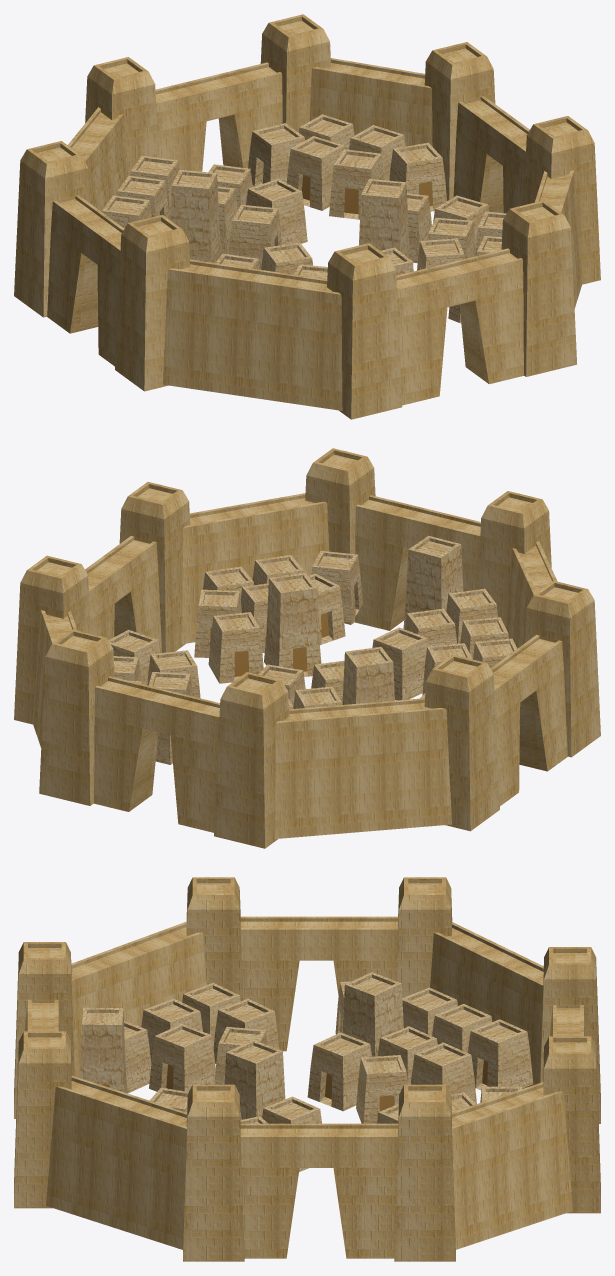
File: Egyptian City.obj
The picture shows the model from 3 angles, top to bottom: view 1: azimuth 30°, elevation 25°; view 2: azimuth 150°, elevation 25°; view 3: azimuth 270°, elevation 25°; orthographic projection. The views are drawn at different scales.
Parts seen in each view (by area): view 1: Cube.015_Cube.017, Cube.012_Cube.013, Cube.010_Cube.011, Cube.007_Cube.008, Cube.011_Cube.012, Cube.000, Cube.002_Cube.003, Cube.001, Cube.003_Cube.004, Cube.006_Cube.007, Cube.005_Cube.006, Cube.004_Cube.005 (+25 smaller); view 2: Cube.013_Cube.014, Cube.007_Cube.008, Cube.014_Cube.015, Cube.009_Cube.010, Cube.008_Cube.009, Cube.000, Cube.012_Cube.013, Cube.003_Cube.004, Cube.002_Cube.003, Cube.006_Cube.007, Cube.004_Cube.005, Cube.005_Cube.006 (+27 smaller); view 3: Cube.014_Cube.015, Cube.006_Cube.007, Cube.001, Cube.000, Cube.005_Cube.006, Cube.004_Cube.005, Cube.015_Cube.017, Cube.013_Cube.014, Cube.011_Cube.012, Cube.008_Cube.009, Cube.002_Cube.003, Cube.003_Cube.004 (+22 smaller).
Boxes of the visible parts, bbox=[...] form: Cube.015_Cube.017: bbox=[163, 259, 342, 410]; Cube.012_Cube.013: bbox=[396, 248, 523, 405]; Cube.010_Cube.011: bbox=[327, 243, 402, 419]; Cube.007_Cube.008: bbox=[155, 62, 282, 186]; Cube.011_Cube.012: bbox=[501, 200, 577, 376]; Cube.000: bbox=[47, 195, 124, 366]; Cube.002_Cube.003: bbox=[115, 214, 190, 391]; Cube.001: bbox=[309, 58, 432, 146]; Cube.003_Cube.004: bbox=[14, 141, 89, 317]; Cube.006_Cube.007: bbox=[453, 96, 529, 213]; Cube.005_Cube.006: bbox=[523, 116, 600, 284]; Cube.004_Cube.005: bbox=[424, 42, 495, 200]; Cube.013_Cube.014: bbox=[275, 698, 451, 838]; Cube.007_Cube.008: bbox=[94, 676, 219, 832]; Cube.014_Cube.015: bbox=[182, 493, 329, 644]; Cube.009_Cube.010: bbox=[214, 672, 289, 848]; Cube.008_Cube.009: bbox=[39, 629, 114, 805]; Cube.000: bbox=[490, 635, 567, 805]; Cube.012_Cube.013: bbox=[355, 495, 480, 630]; Cube.003_Cube.004: bbox=[424, 654, 499, 831]; Cube.002_Cube.003: bbox=[525, 580, 600, 757]; Cube.006_Cube.007: bbox=[85, 536, 161, 652]; Cube.004_Cube.005: bbox=[14, 555, 90, 724]; Cube.005_Cube.006: bbox=[119, 482, 190, 652]; Cube.014_Cube.015: bbox=[46, 1075, 186, 1249]; Cube.006_Cube.007: bbox=[240, 1123, 398, 1258]; Cube.001: bbox=[451, 1082, 572, 1249]; Cube.000: bbox=[240, 916, 398, 1051]; Cube.005_Cube.006: bbox=[183, 1084, 244, 1261]; Cube.004_Cube.005: bbox=[394, 1084, 455, 1261]; Cube.015_Cube.017: bbox=[71, 921, 206, 1077]; Cube.013_Cube.014: bbox=[430, 922, 543, 1088]; Cube.011_Cube.012: bbox=[14, 1031, 71, 1208]; Cube.008_Cube.009: bbox=[543, 1036, 600, 1213]; Cube.002_Cube.003: bbox=[186, 877, 242, 1000]; Cube.003_Cube.004: bbox=[396, 877, 452, 997].
Size of the model in its own units: 0.8884 by 0.2761 by 0.9447.
Materials: 4 (4 with a texture image).
